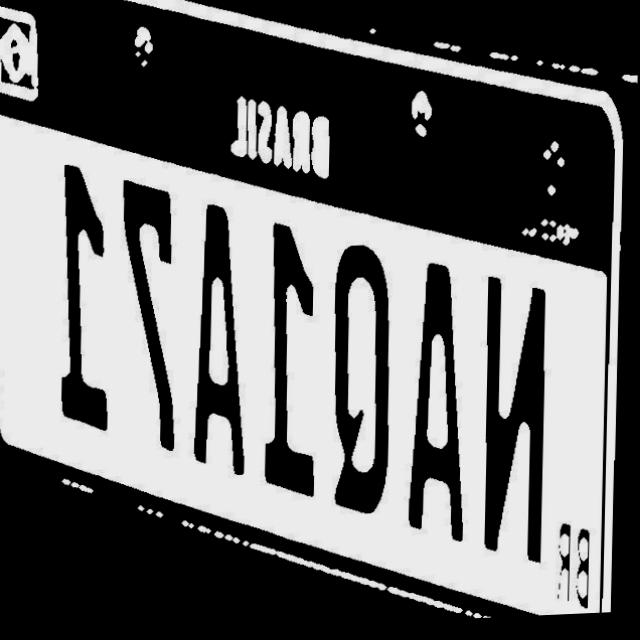1: (46, 152, 117, 437), (259, 204, 323, 504)
7: (113, 177, 182, 455)
a: (406, 257, 479, 553), (184, 201, 256, 479)
n: (479, 276, 558, 569)
q: (335, 225, 407, 520)
